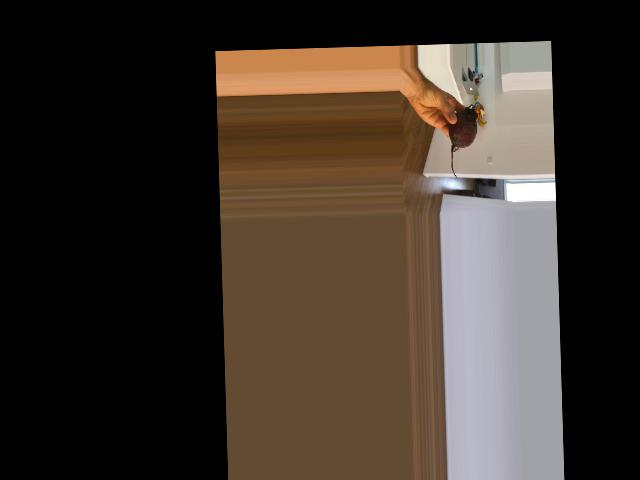beet: (447, 104, 479, 179)
